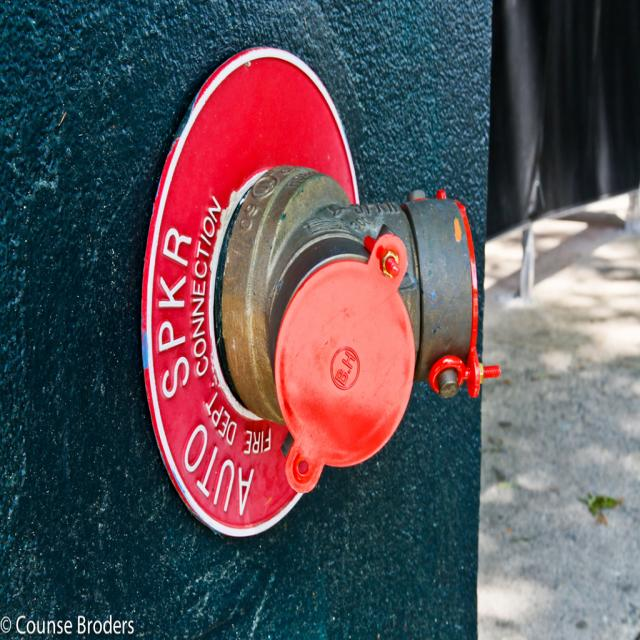fire_hydrant: (142, 49, 501, 538)
